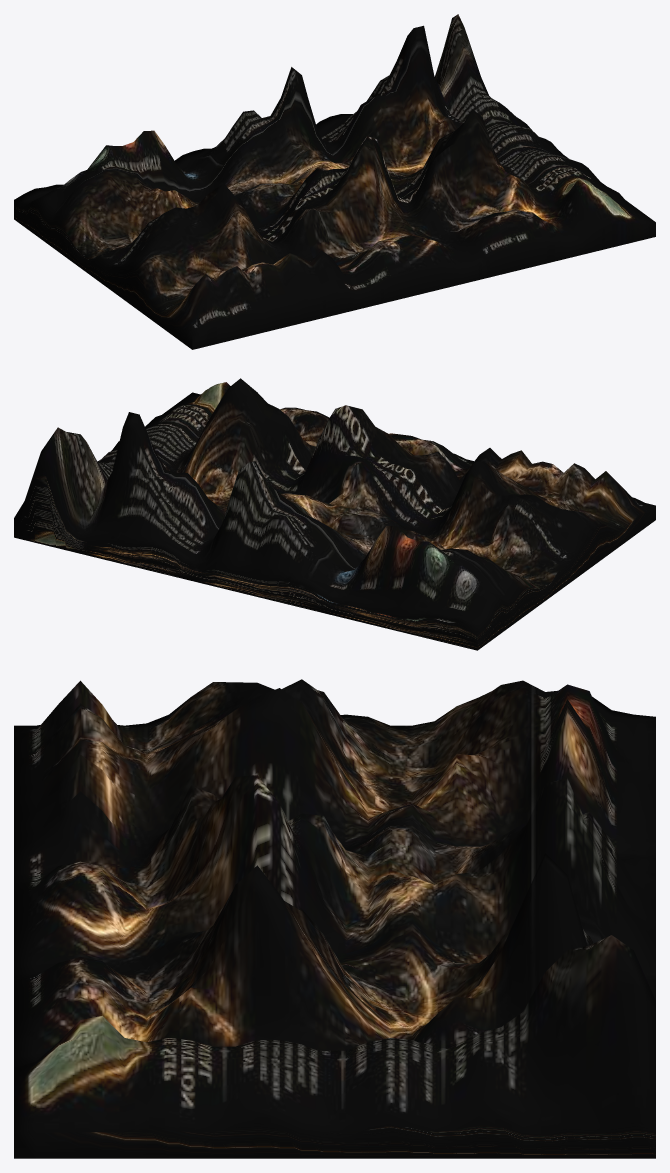
File: CUL_42_Xing_Yi_Quan.glb
3 renders of one model, top to bottom at view 1: azimuth 30°, elevation 25°; view 2: azimuth 150°, elevation 25°; view 3: azimuth 270°, elevation 25°, orthographic. The views are drawn at different scales.
Parts seen in each view (by area): view 1: CUL_42_Xing_Yi_Quan; view 2: CUL_42_Xing_Yi_Quan; view 3: CUL_42_Xing_Yi_Quan.
Part boxes in pixels (x1=…): CUL_42_Xing_Yi_Quan: x1=14, y1=14, x2=655, y2=349; CUL_42_Xing_Yi_Quan: x1=14, y1=378, x2=655, y2=650; CUL_42_Xing_Yi_Quan: x1=14, y1=679, x2=655, y2=1158.
Bounding box in the file's own units: 2 × 0.51 × 1.33.
1 material, 1 textured.
